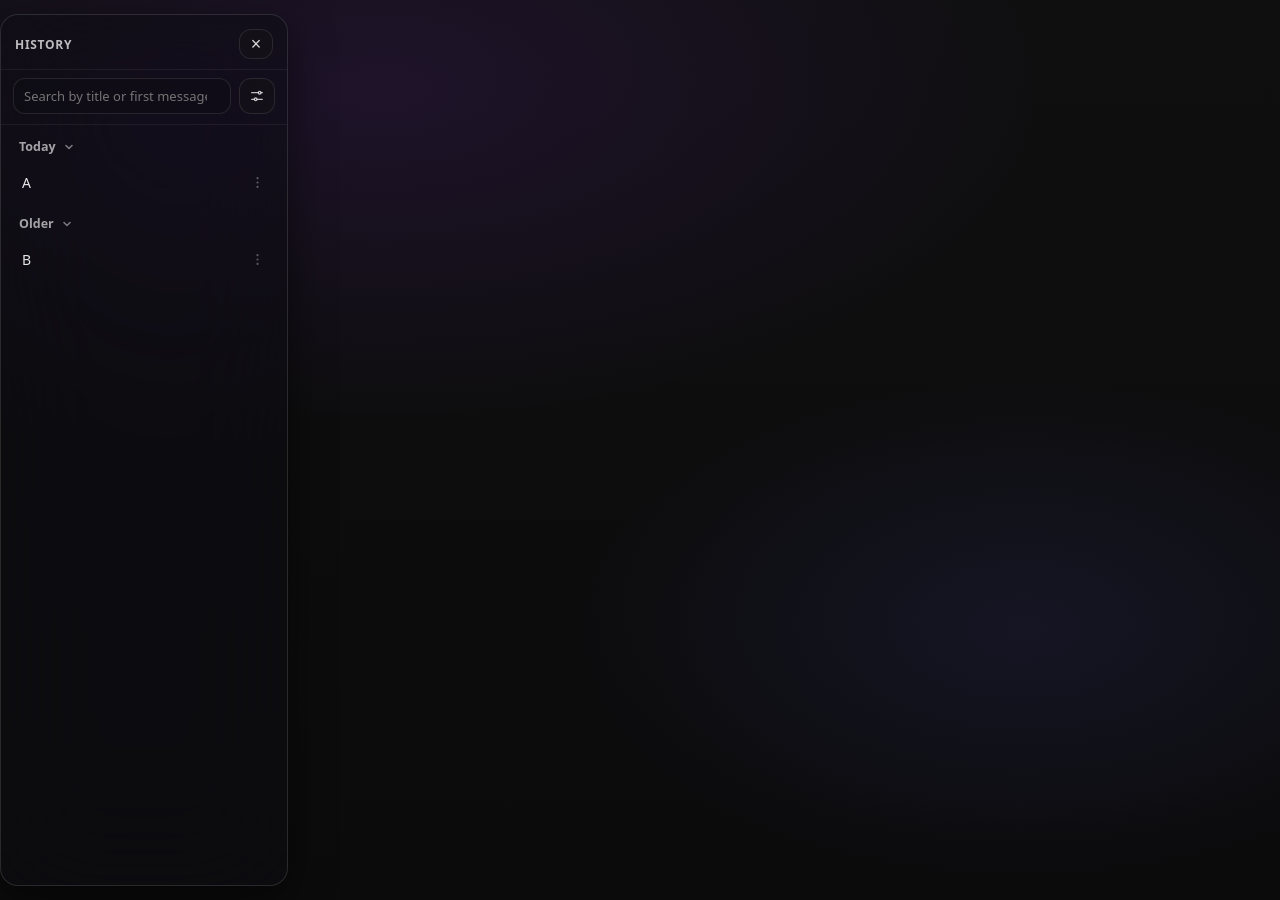
Test: a heading collapses the rows under it and opens them again
This screenshot has width=1280, height=900.
Click the button with test id "session-group-toggle-today".
click(46, 146)  # box [9,133,83,160]
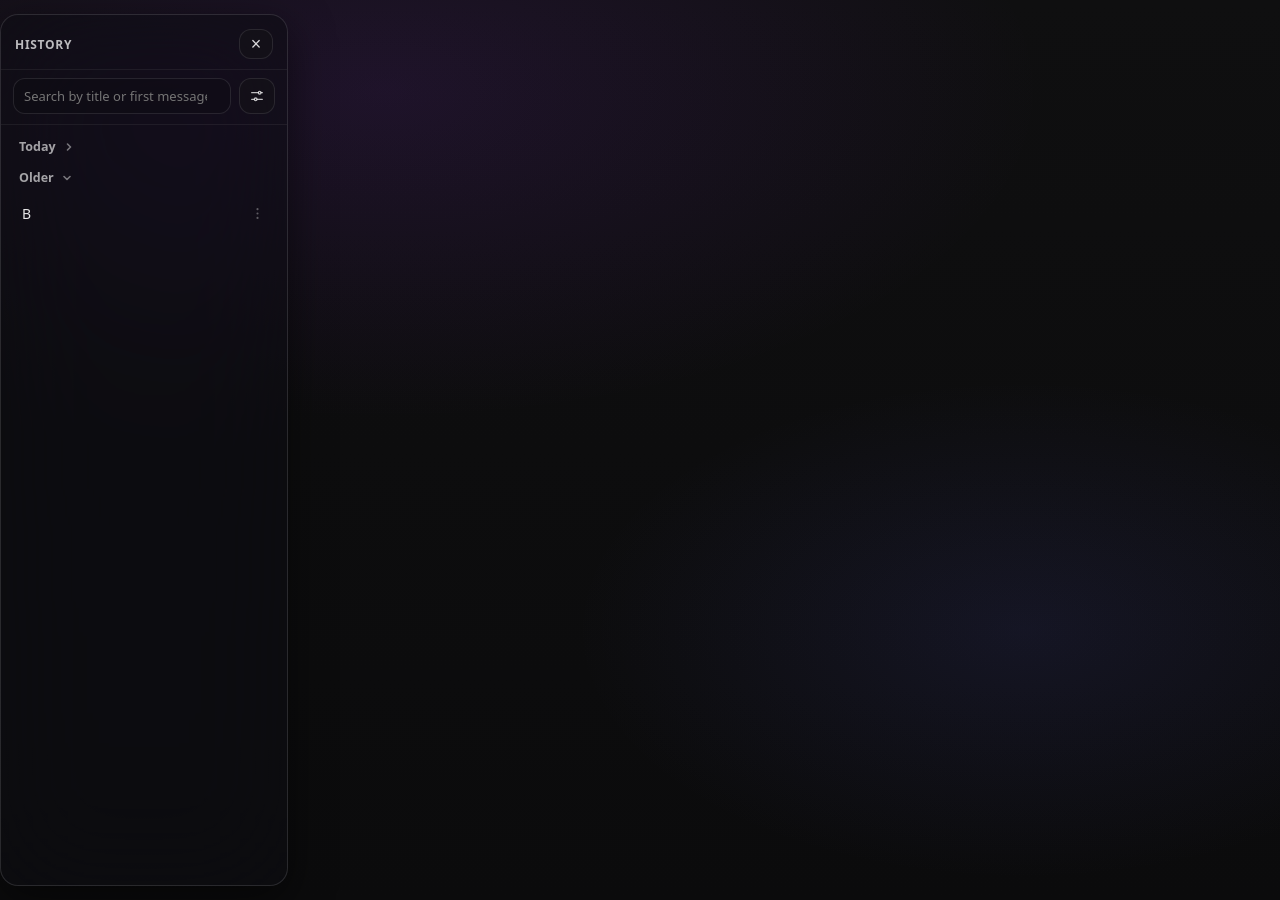
Expected: the element with test id "session-row-old" is shown, [22,200,270,226]
Result: the element with test id "session-row-today" is gone
Click the button with test id "session-group-toggle-today".
click(46, 146)  # box [9,133,83,160]
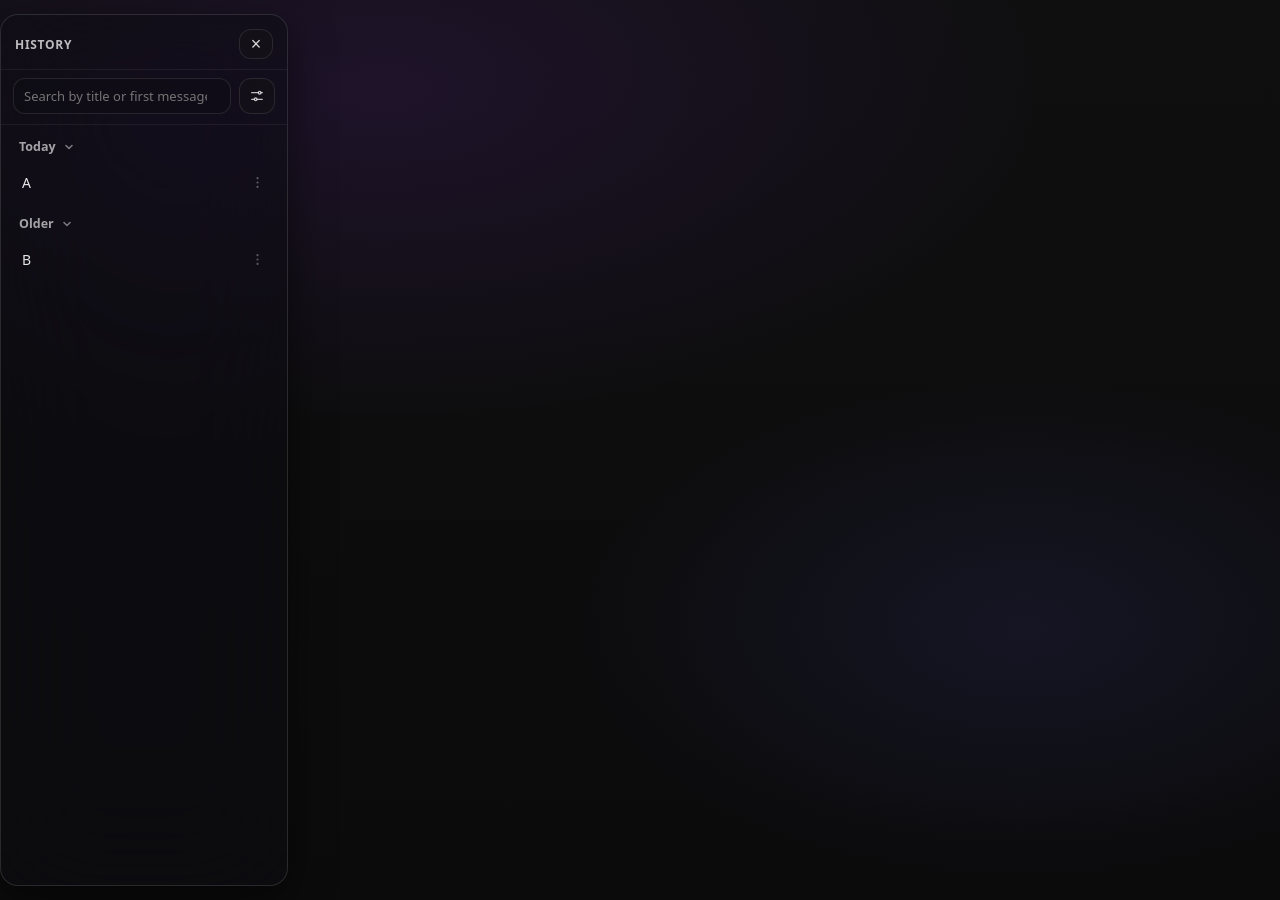
Result: the element with test id "session-row-today" is shown at [22,169,270,195]
